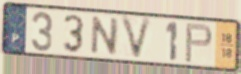1: (165, 21, 179, 63)
3: (30, 10, 54, 52), (62, 14, 85, 54)
N: (89, 15, 121, 57)
P: (183, 22, 214, 64)
V: (119, 14, 155, 63)
